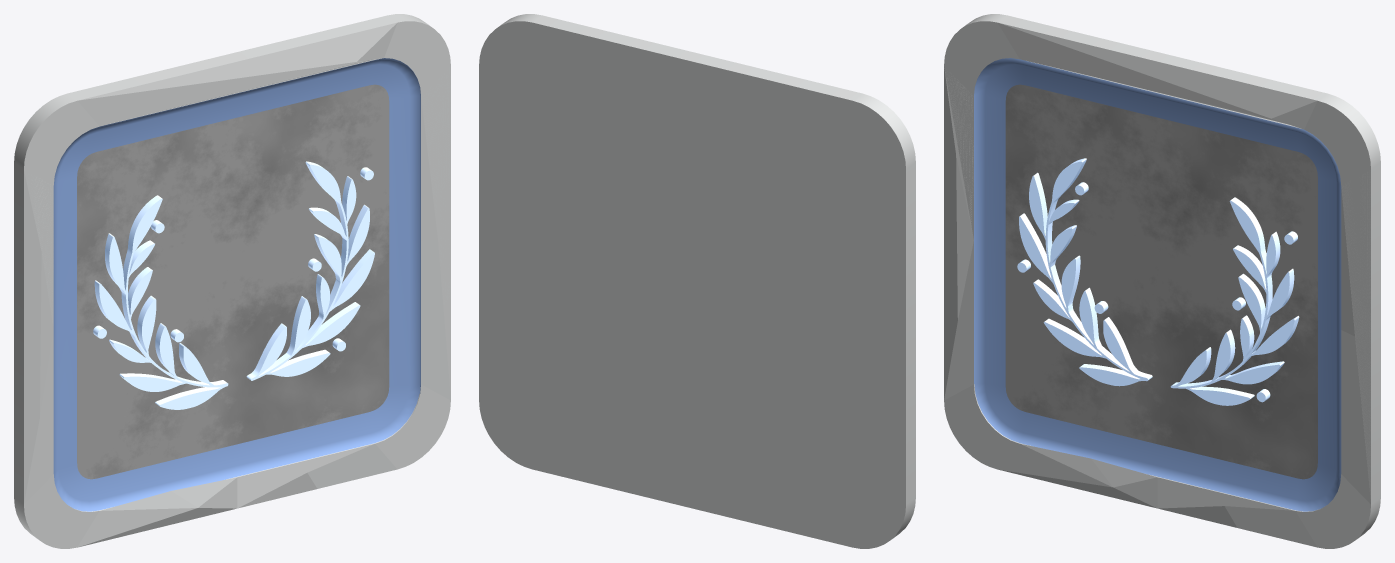
File: TrophyCard.glb
3 renders of one model, left to right at view 1: azimuth 30°, elevation 25°; view 2: azimuth 150°, elevation 25°; view 3: azimuth 330°, elevation 25°, orthographic.
Visible parts, largest first — view 1: TrophyCard; view 2: TrophyCard; view 3: TrophyCard.
Boxes of the visible parts, x1=… form: TrophyCard: x1=14, y1=14, x2=450, y2=548; TrophyCard: x1=479, y1=14, x2=915, y2=548; TrophyCard: x1=944, y1=14, x2=1380, y2=548.
Size of the model in its own units: 5 by 5 by 0.2592.
Materials: 4 (1 with a texture image).
